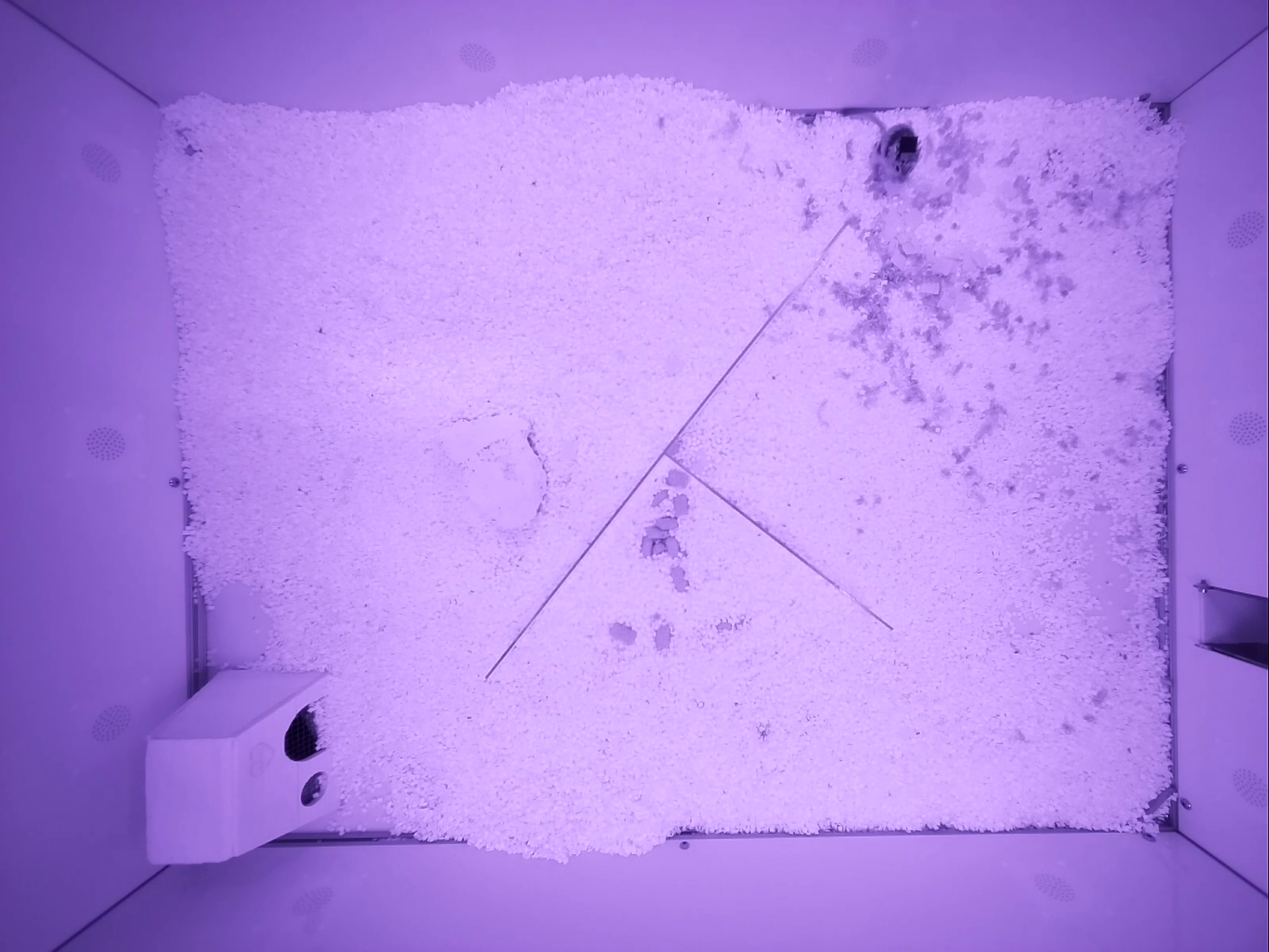adult_back: (843, 109, 920, 186)
